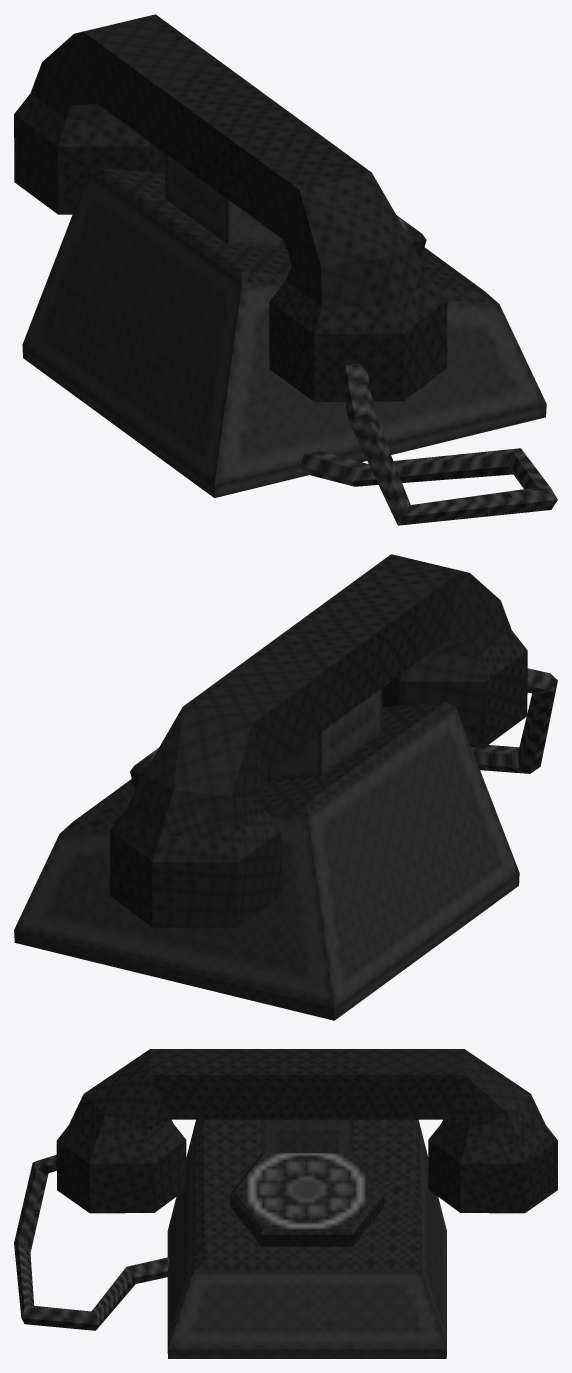
The model's file is phone_01.fbx.
3 views of the same model, one above another, from view 1: azimuth 30°, elevation 25°; view 2: azimuth 150°, elevation 25°; view 3: azimuth 270°, elevation 25° (orthographic). The views are drawn at different scales.
Visible parts, largest first — view 1: phone; view 2: phone; view 3: phone.
Boxes of the visible parts, x1,y1,x2,y2 form: phone: (14,14,557,525); phone: (14,554,557,1020); phone: (14,1049,557,1358).
Size of the model in its own units: 113 by 96.96 by 219.
